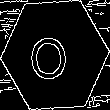O_N: (34, 28, 76, 82)
